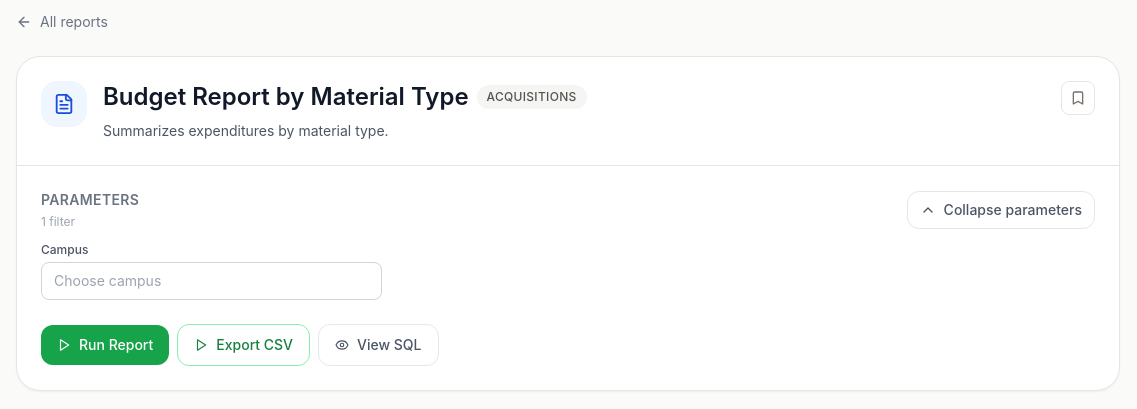
Reports › lets you collapse and reopen report parameters on the detail page
The width and height of the screenshot is (1137, 409).
Check: the field with placeholder "Choose campus" is shown, box [41,262,382,300]
Step 1. Click the button "Collapse parameters" → (1001, 210), box [907,191,1095,229]
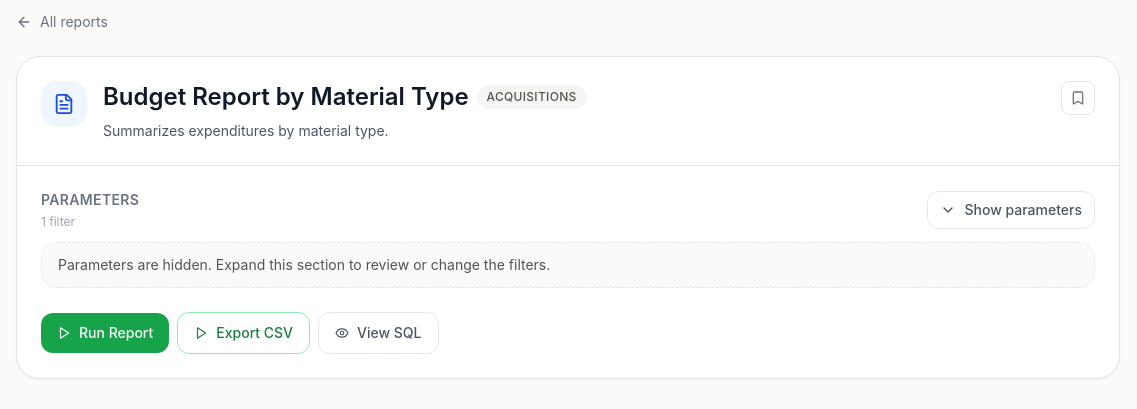
Check: the field with placeholder "Choose campus" is gone
Check: the text "Parameters are hidden" is shown, box [58,256,550,273]
Step 2. Click the button "Show parameters" → (1011, 210), box [928,191,1095,229]
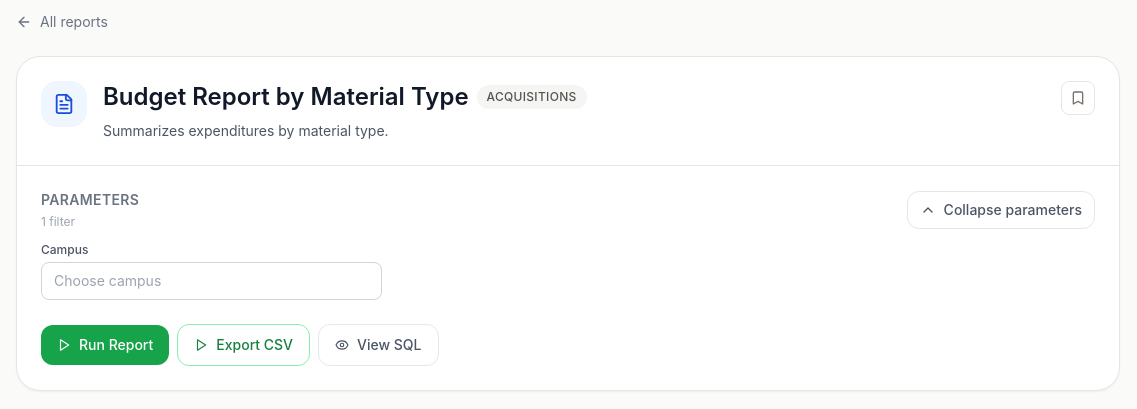
Check: the field with placeholder "Choose campus" is shown, box [41,262,382,300]
